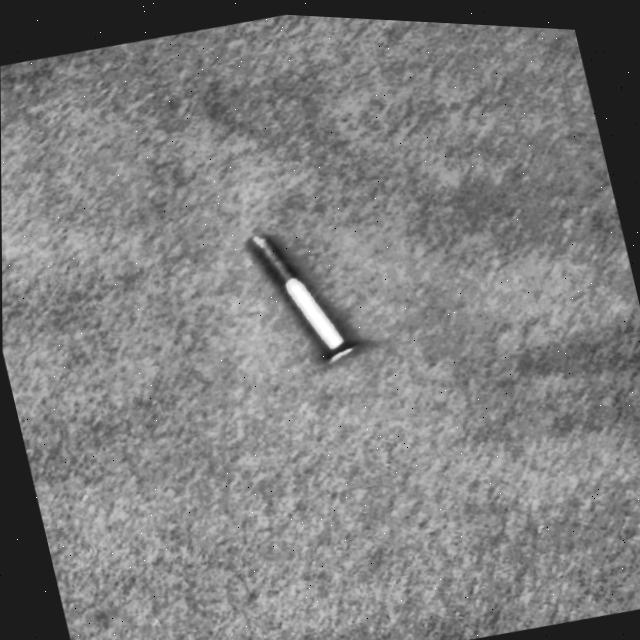Flat head socket screw: (236, 210, 367, 378)
